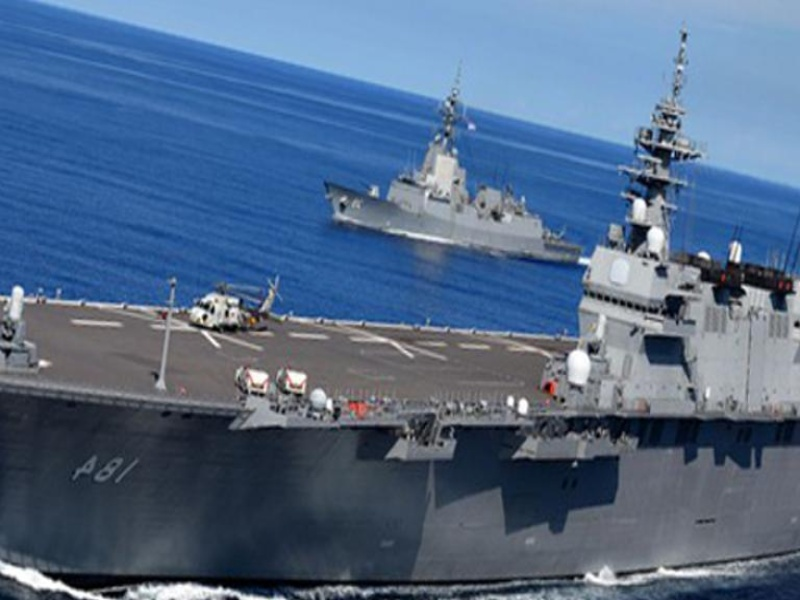carrier: (34, 228, 798, 579)
cruise: (330, 108, 583, 265)
